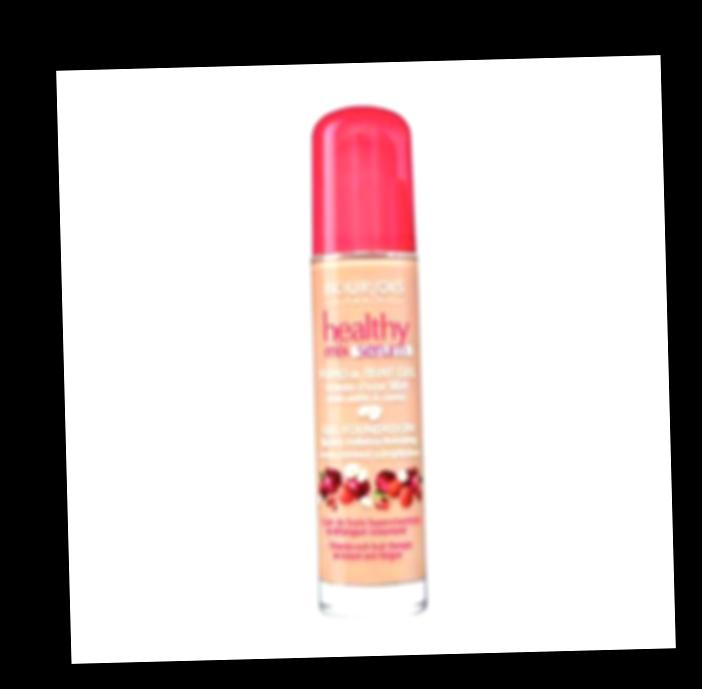cosmetic: (302, 104, 428, 614)
